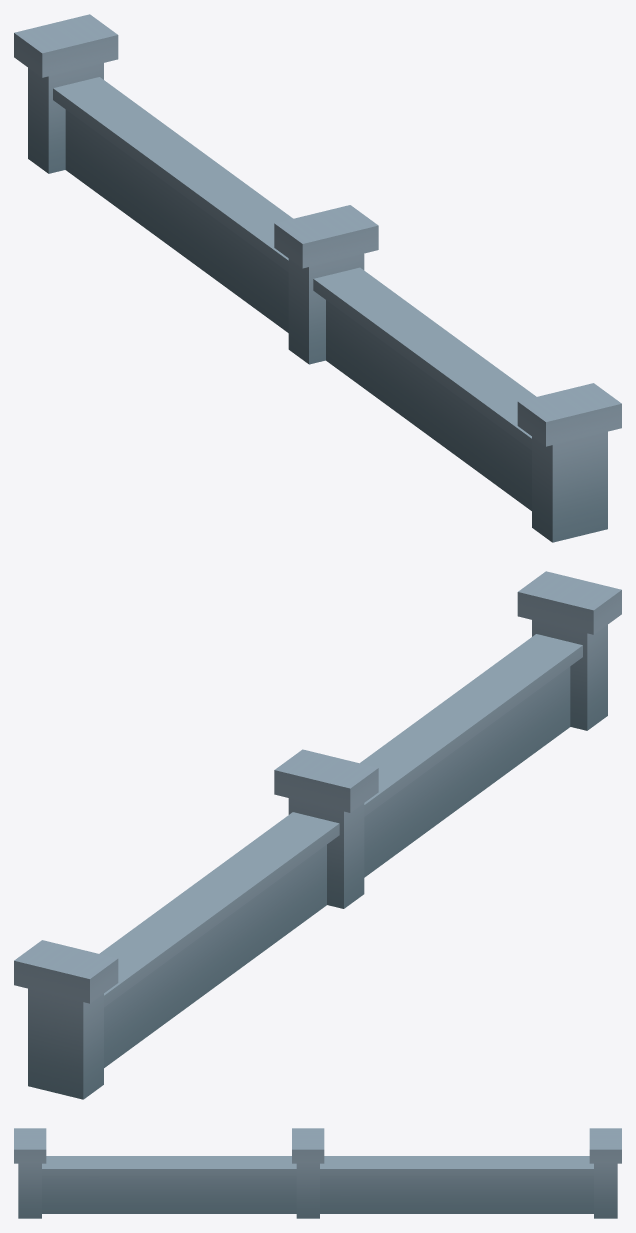
File: WALL.fbx
3 renders of one model, top to bottom at view 1: azimuth 30°, elevation 25°; view 2: azimuth 150°, elevation 25°; view 3: azimuth 270°, elevation 25°, orthographic. The views are drawn at different scales.
Visible parts, largest first — view 1: WALL; view 2: WALL; view 3: WALL.
Boxes of the visible parts, box(x1,y1,x2,y2) form: WALL: box(14, 14, 621, 542); WALL: box(14, 571, 621, 1099); WALL: box(14, 1128, 621, 1218).
Bounding box in the file's own units: 99.62 × 158 × 1209.
